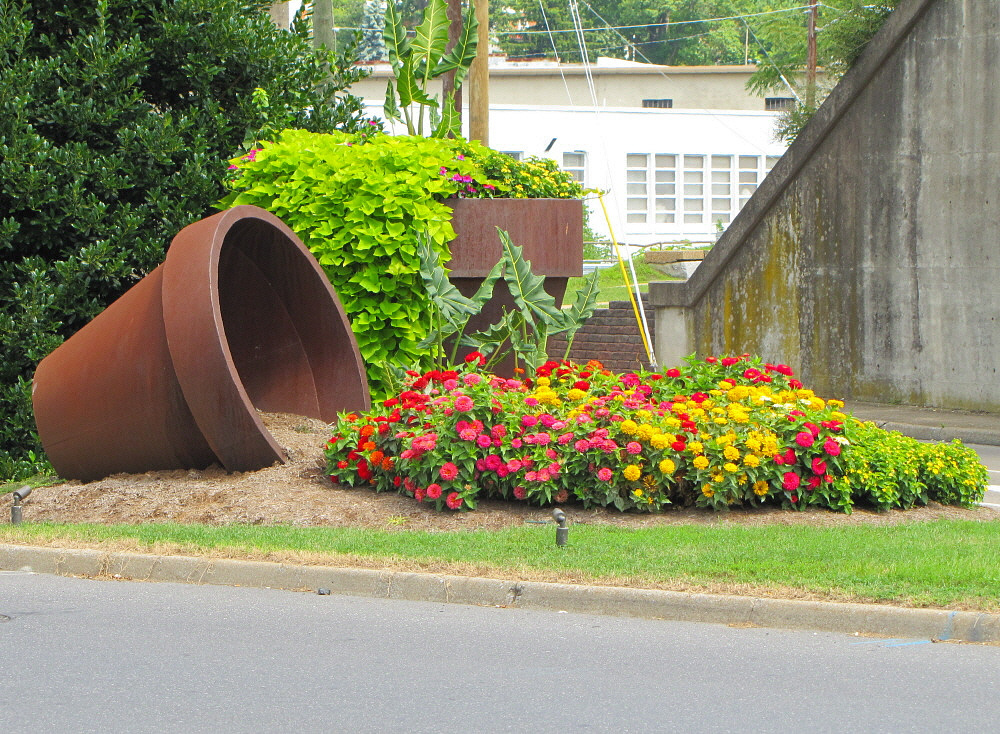flowerpot: (32, 209, 373, 488)
